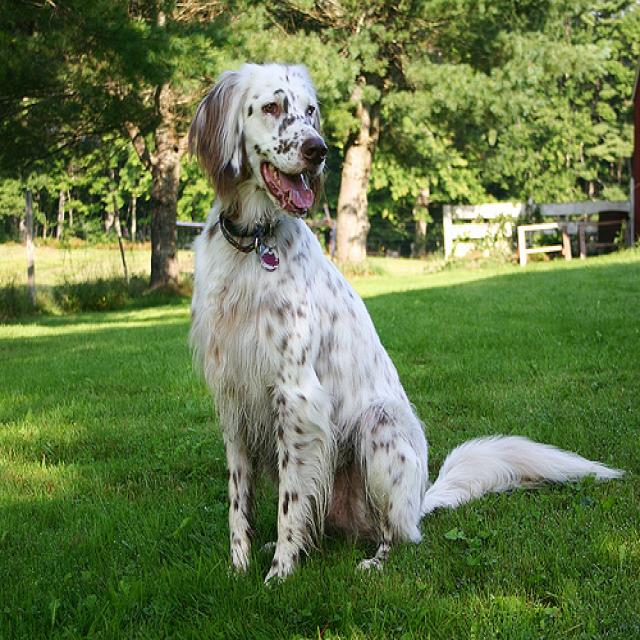dog-english_setter: (183, 43, 634, 594)
